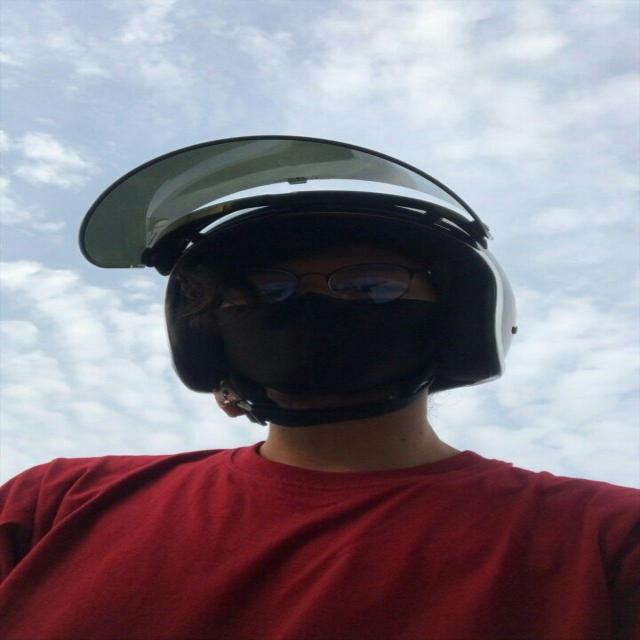Helmet: (76, 130, 523, 431)
